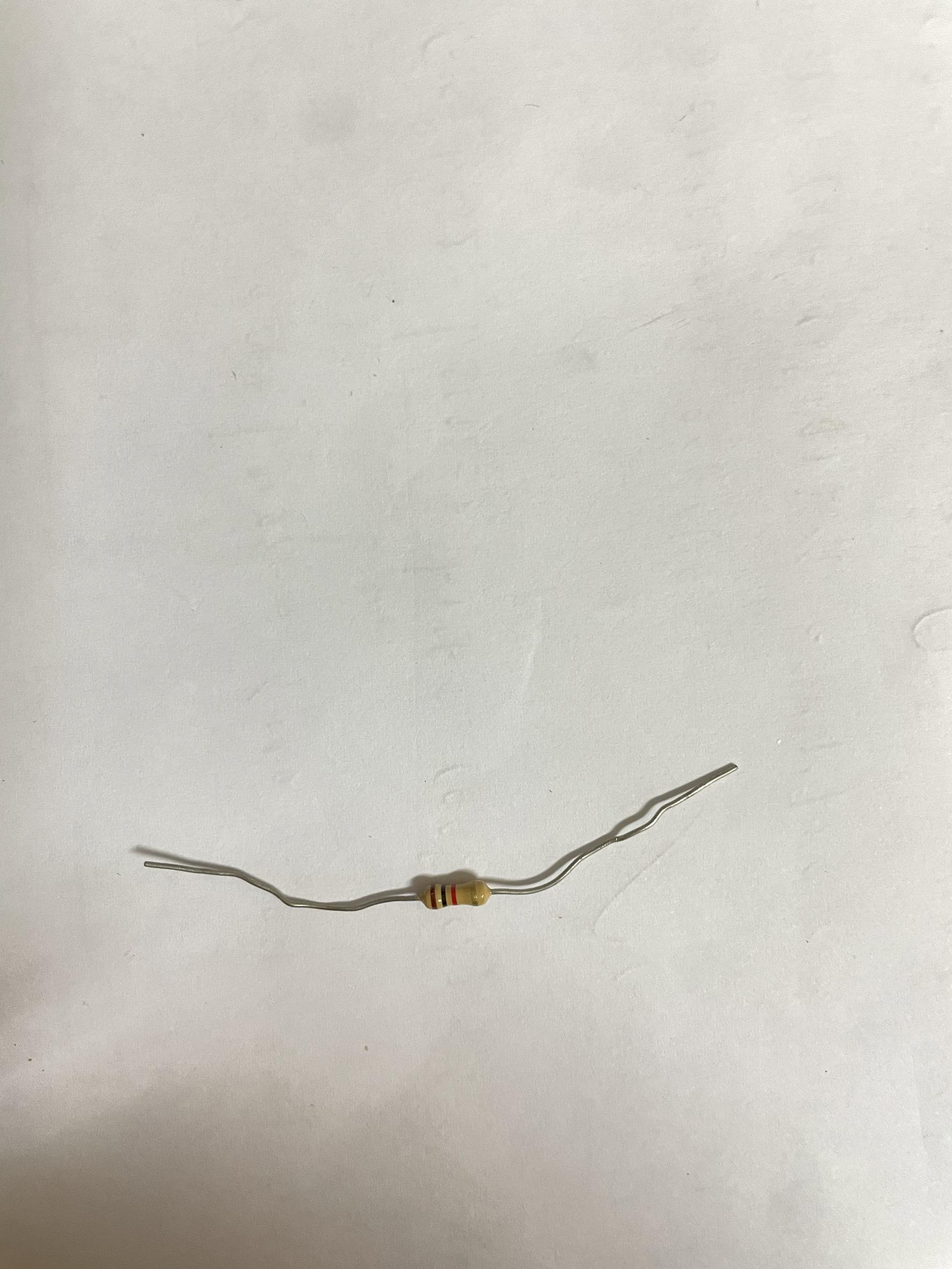resistor: (420, 870, 488, 909)
